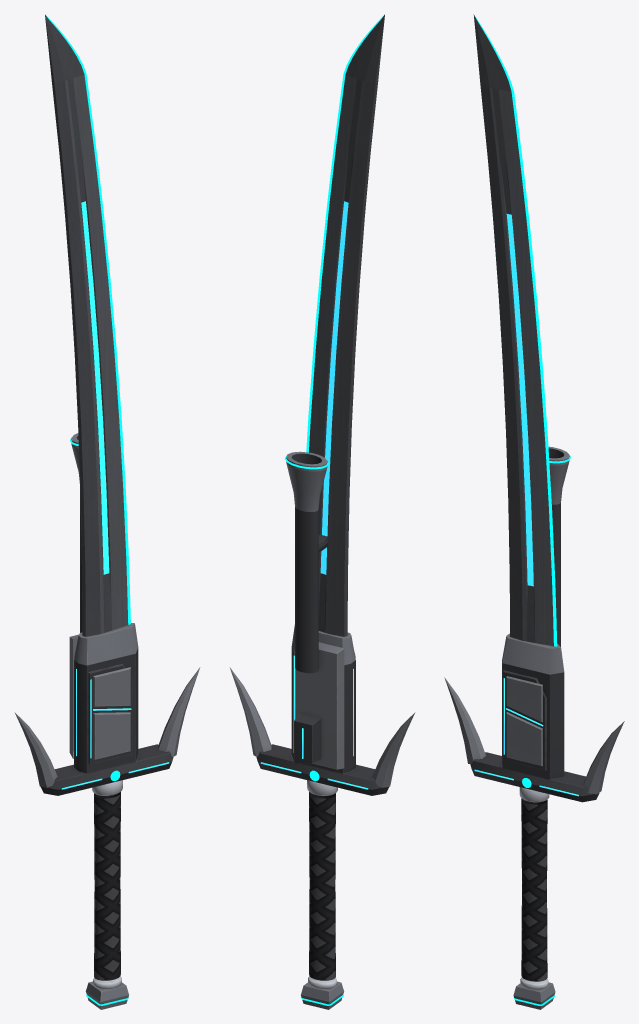
The picture shows the model from 3 angles, left to right: view 1: azimuth 30°, elevation 25°; view 2: azimuth 150°, elevation 25°; view 3: azimuth 330°, elevation 25°; orthographic projection. The views are drawn at different scales.
Visible parts, largest first — view 1: kat_shin, kat_blade, kat_plate, kat_dark, kat_wrap, glow_kat_line, glow_kat_edge, kat_pale; view 2: kat_shin, kat_dark, kat_plate, kat_blade, kat_wrap, glow_kat_line, glow_kat_edge, kat_pale; view 3: kat_blade, kat_shin, kat_plate, kat_dark, kat_wrap, glow_kat_line, glow_kat_edge, kat_pale.
Part boxes in pixels (<box>): kat_shin: <box>45,14,111,636</box>; kat_blade: <box>65,75,128,633</box>; kat_plate: <box>14,433,200,1009</box>; kat_dark: <box>41,436,173,795</box>; kat_wrap: <box>94,791,120,980</box>; glow_kat_line: <box>61,201,169,789</box>; glow_kat_edge: <box>46,15,130,624</box>; kat_pale: <box>92,780,122,989</box>; kat_shin: <box>318,14,384,636</box>; kat_dark: <box>256,453,388,795</box>; kat_plate: <box>229,451,415,1009</box>; kat_blade: <box>309,75,364,633</box>; kat_wrap: <box>309,791,335,980</box>; glow_kat_line: <box>260,201,368,789</box>; glow_kat_edge: <box>306,15,383,452</box>; kat_pale: <box>307,780,337,989</box>; kat_blade: <box>489,88,553,646</box>; kat_shin: <box>473,14,535,642</box>; kat_plate: <box>444,446,624,1009</box>; kat_dark: <box>470,448,599,802</box>; kat_wrap: <box>521,798,547,981</box>; glow_kat_line: <box>474,214,578,796</box>; glow_kat_edge: <box>474,15,557,646</box>; kat_pale: <box>519,787,549,989</box>.
Bounding box in the file's own units: 0.278 × 1.43 × 0.0847.
9 materials, 6 textured.
